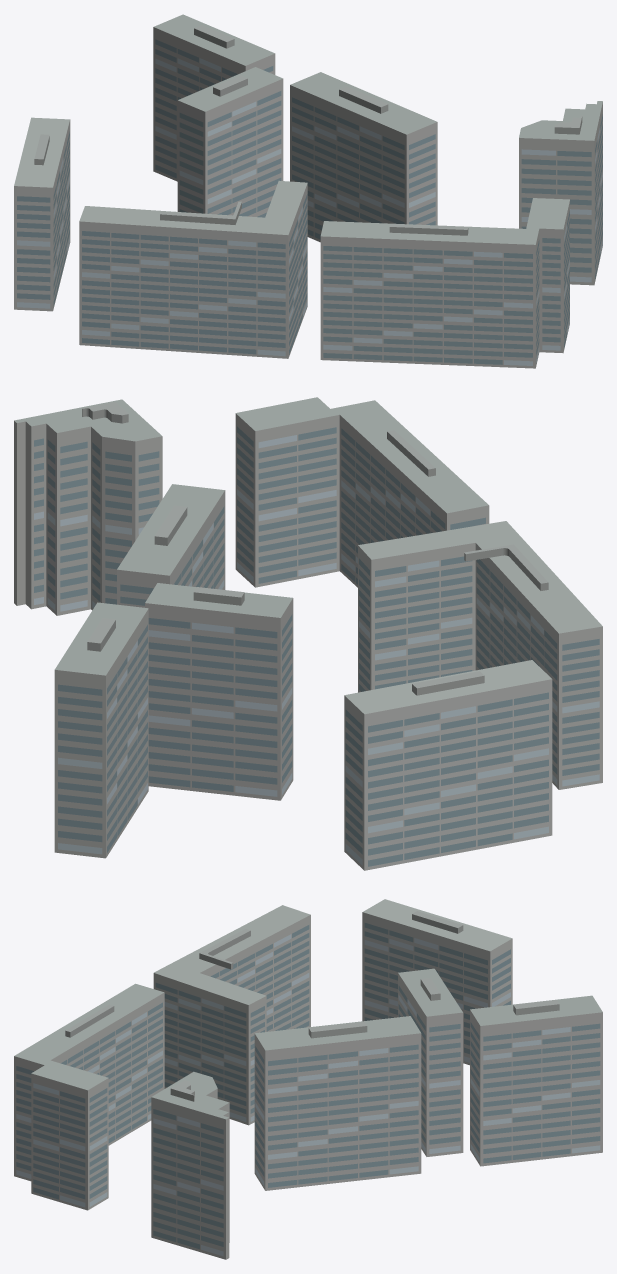
File: apt-a15786420.glb
The picture shows the model from 3 angles, top to bottom: view 1: azimuth 30°, elevation 25°; view 2: azimuth 150°, elevation 25°; view 3: azimuth 270°, elevation 25°; orthographic projection. The views are drawn at different scales.
Visible parts, largest first — view 1: apt-a15786420; view 2: apt-a15786420; view 3: apt-a15786420.
Boxes of the visible parts, x1,y1,x2,y2 form: apt-a15786420: (14,14,602,368); apt-a15786420: (14,397,602,870); apt-a15786420: (14,899,602,1259).
Size of the model in its own units: 168 by 47.81 by 174.
